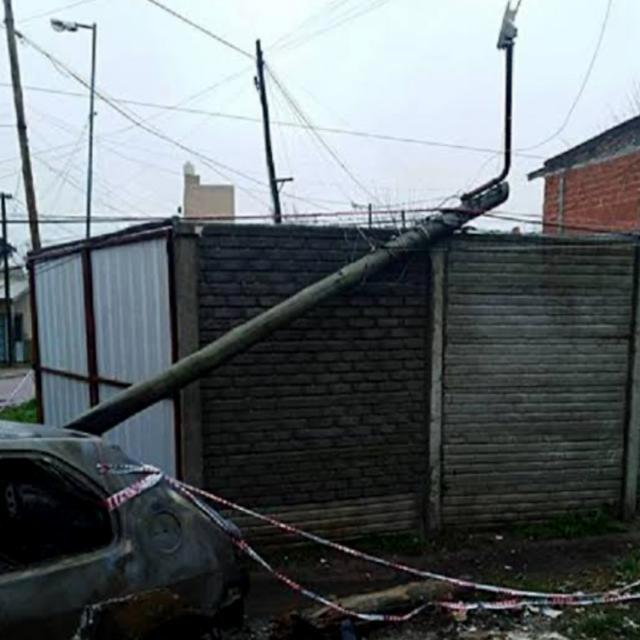Broken Pole: (68, 6, 522, 437)
